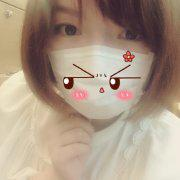OK: (48, 8, 154, 122)
